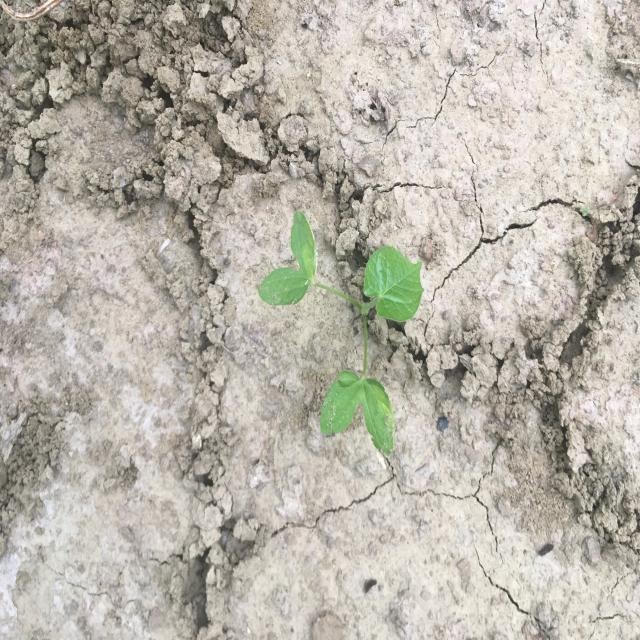MorningGlory: (256, 209, 426, 458)
